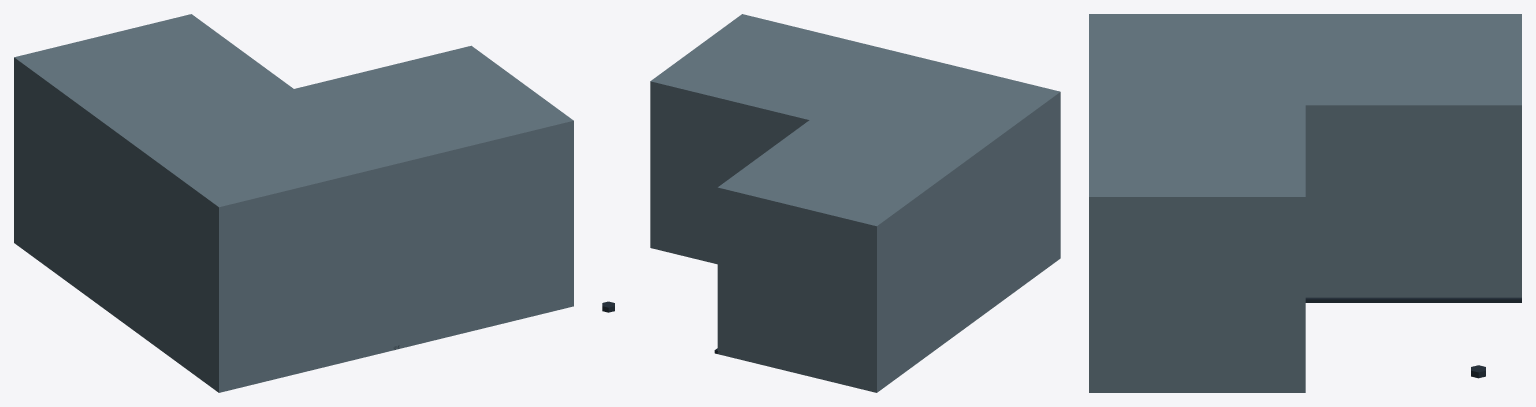
Rendered from terrain-metal-inner-corner.lod0.glb.
3 views of the same model, side by side, from view 1: azimuth 30°, elevation 25°; view 2: azimuth 150°, elevation 25°; view 3: azimuth 270°, elevation 25° (orthographic). The views are drawn at different scales.
Parts seen in each view (by area): view 1: terrain-metal-inner-corner__body; view 2: terrain-metal-inner-corner__body; view 3: terrain-metal-inner-corner__body.
Part boxes in pixels (bbox=[...]): terrain-metal-inner-corner__body: bbox=[14, 14, 573, 392]; terrain-metal-inner-corner__body: bbox=[602, 14, 1060, 392]; terrain-metal-inner-corner__body: bbox=[1089, 14, 1521, 392].
Size of the model in its own units: 2 by 1 by 2.
